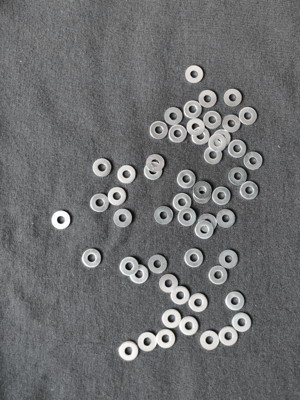circle: (200, 329, 223, 354), (220, 326, 242, 350), (155, 328, 177, 352), (239, 106, 262, 128), (232, 310, 254, 333), (225, 289, 247, 311), (118, 341, 141, 362), (138, 331, 158, 355), (242, 152, 264, 173), (179, 315, 201, 336), (162, 308, 183, 329), (116, 164, 137, 185), (223, 87, 243, 109), (189, 293, 209, 315), (149, 255, 169, 277), (113, 210, 135, 230), (90, 192, 110, 214), (219, 249, 239, 270), (193, 185, 214, 205), (129, 265, 149, 286), (152, 206, 174, 225), (120, 255, 139, 277), (239, 180, 259, 200), (229, 167, 249, 187), (149, 121, 169, 141), (82, 249, 102, 269), (108, 186, 128, 206), (52, 210, 72, 230), (222, 113, 241, 134), (217, 208, 236, 229), (159, 274, 180, 293), (163, 107, 184, 126), (212, 186, 231, 206), (208, 266, 228, 285), (171, 286, 190, 306), (196, 221, 215, 241), (199, 89, 218, 109), (184, 100, 203, 120), (186, 66, 206, 85), (142, 163, 163, 181), (94, 157, 112, 178), (213, 129, 232, 148), (185, 248, 204, 267), (179, 208, 198, 227), (193, 180, 212, 199), (178, 170, 197, 189), (173, 193, 192, 212), (199, 214, 217, 234), (191, 128, 211, 146), (203, 111, 223, 129), (229, 140, 248, 158), (204, 147, 223, 165), (147, 154, 165, 172), (170, 125, 187, 144), (209, 135, 227, 152), (187, 119, 205, 136)
